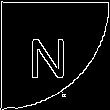N_N: (34, 29, 76, 81)
